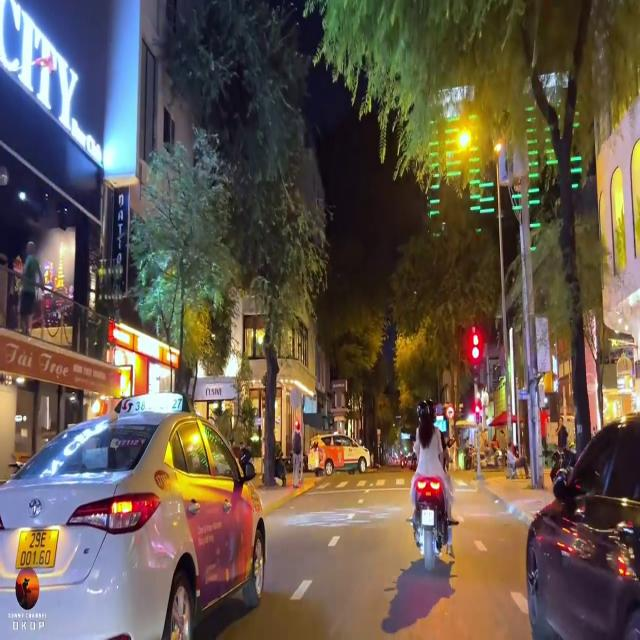bien_vang: (18, 527, 58, 568)
